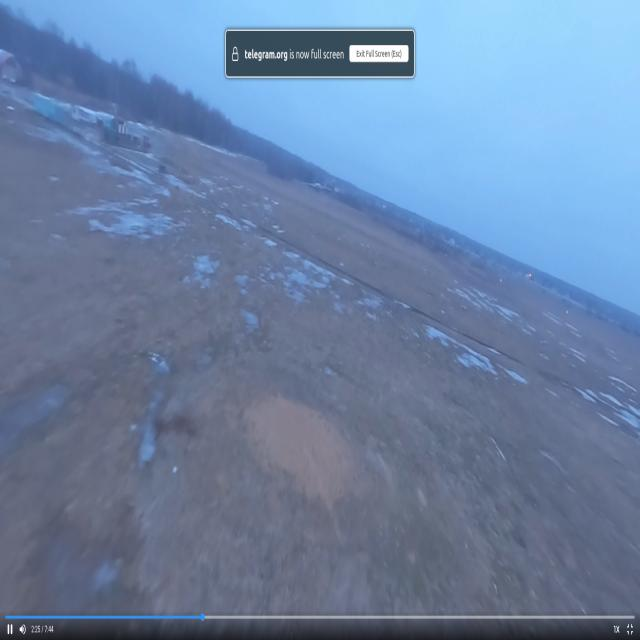planedrone: (298, 173, 336, 198)
